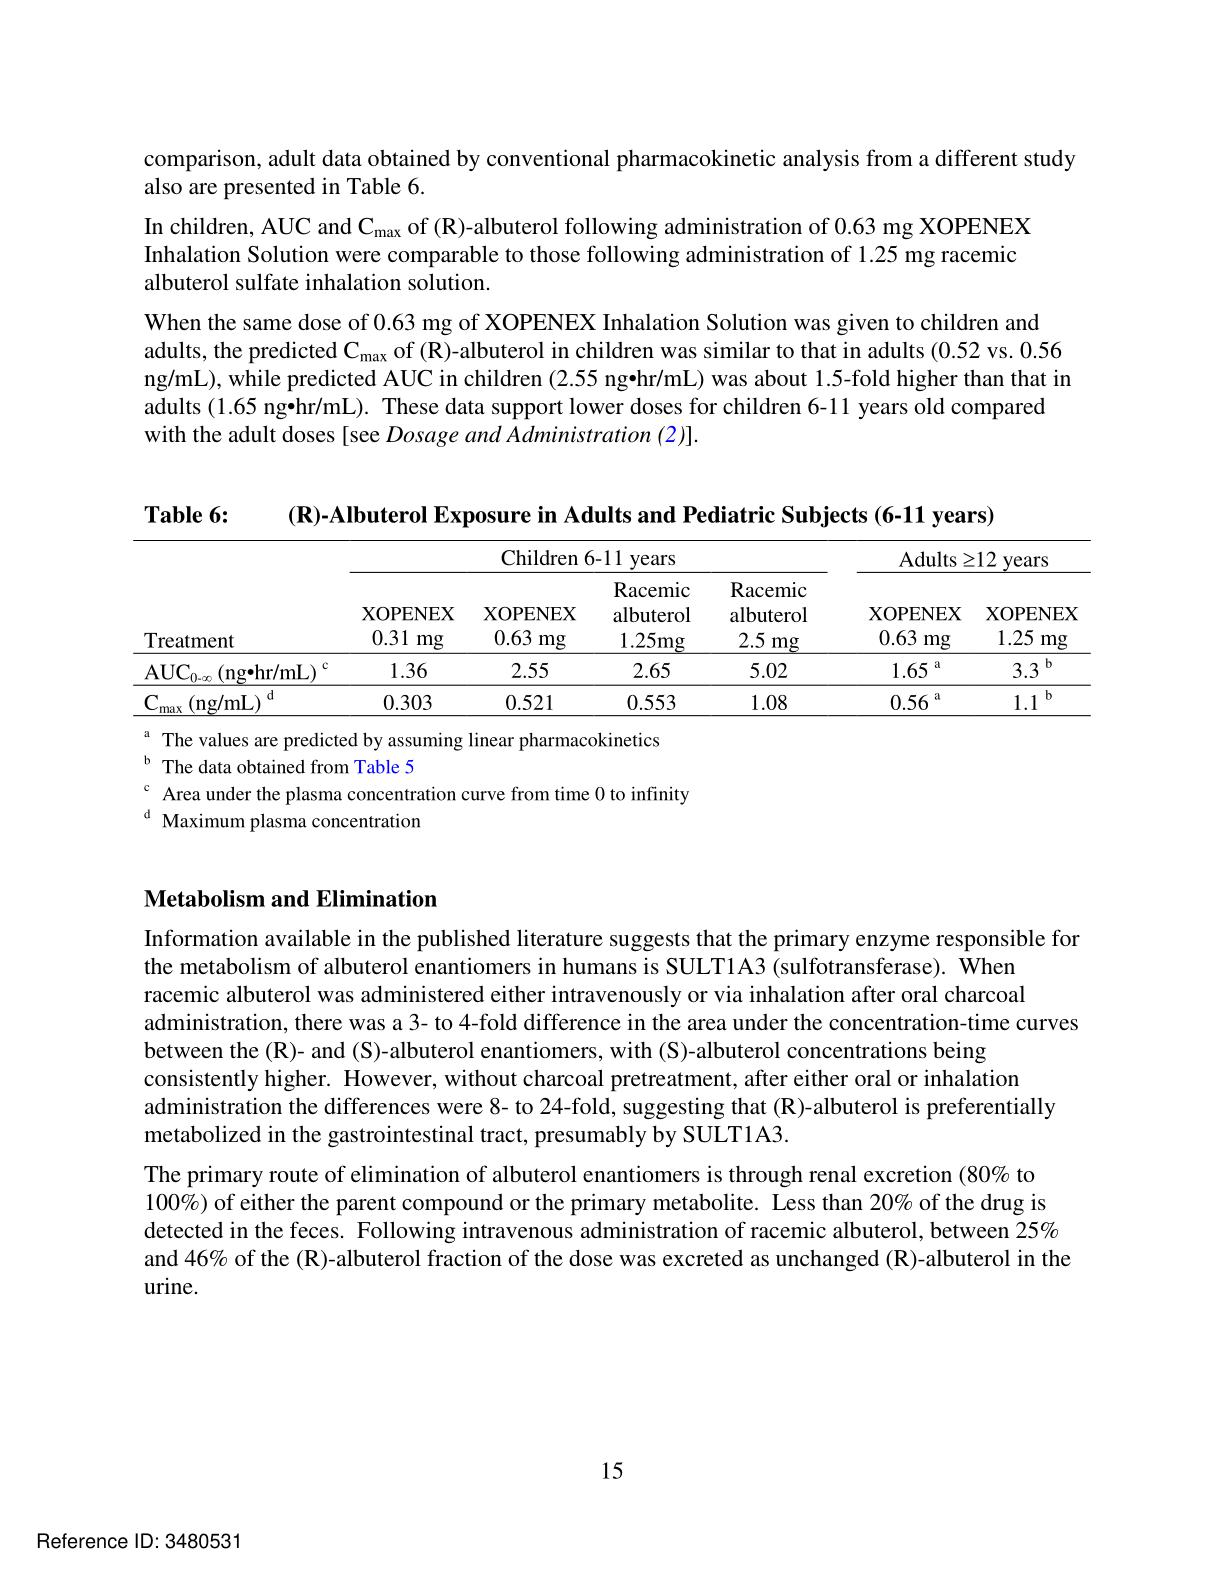partial_lined_merged_cells: (130, 537, 1093, 717)
